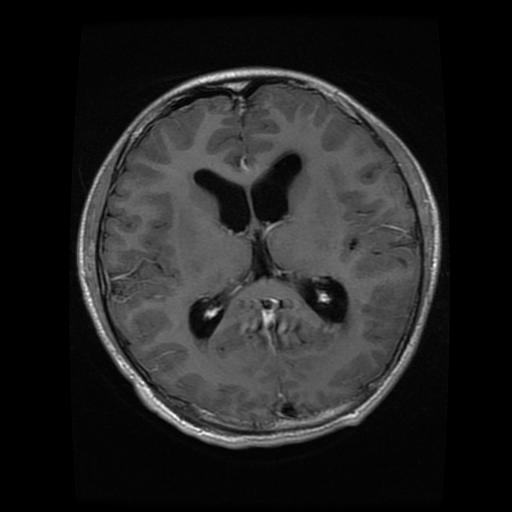Gliomia_tumour: (231, 295, 306, 350)
